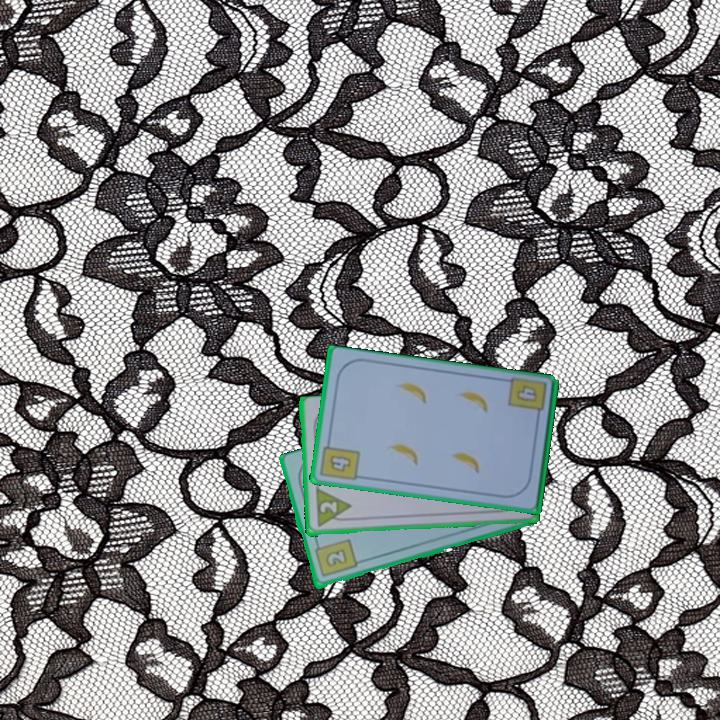2b: (311, 536, 359, 580)
2p: (316, 498, 339, 516)
4b: (317, 436, 362, 484), (512, 382, 540, 405)
